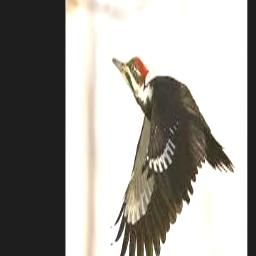Woodpecker: (110, 56, 235, 256)
